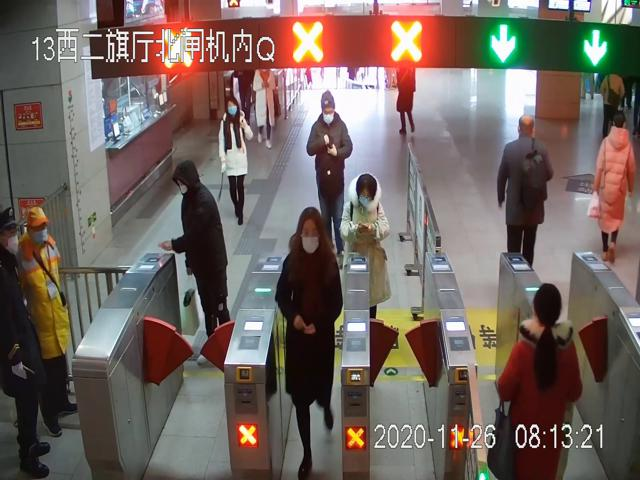person: (276, 206, 345, 477), (496, 282, 582, 480), (12, 205, 79, 437), (164, 160, 234, 366), (496, 116, 553, 269), (340, 173, 391, 338), (306, 91, 351, 263), (594, 107, 636, 261), (217, 96, 253, 224)
